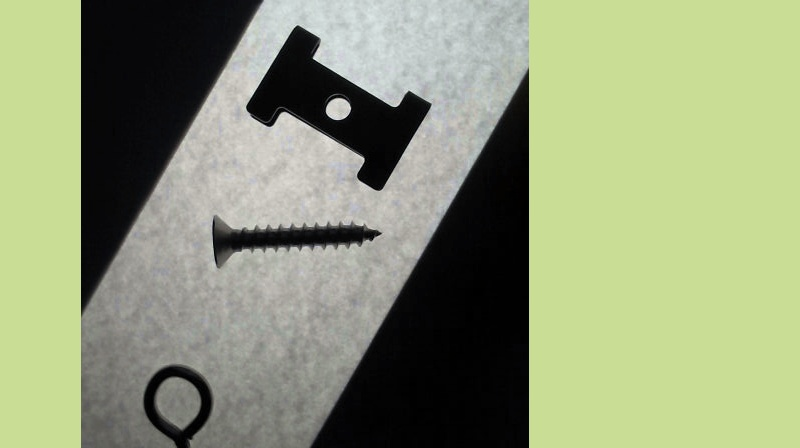O001: (142, 361, 214, 447)
O002: (245, 26, 429, 190)
S001: (208, 208, 382, 269)
